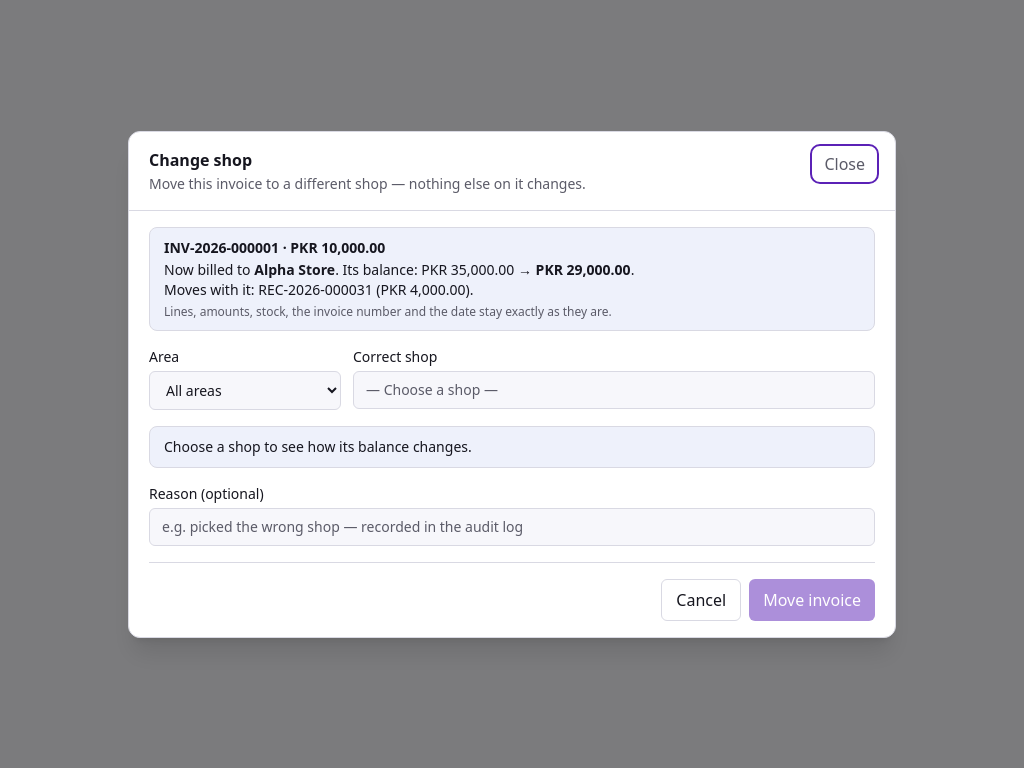
it: Change shop › the receipts that move with the invoice are named, and only the unpaid part changes the balances
The image size is (1024, 768).
Expected: the text with test id "cs-moving" shows "REC-2026-000031 (PKR 4,000.00)", [258,280,470,298]
Step 1. Click the dropdown named "Correct shop" → coordinates (614, 390), box [353,370,875,408]
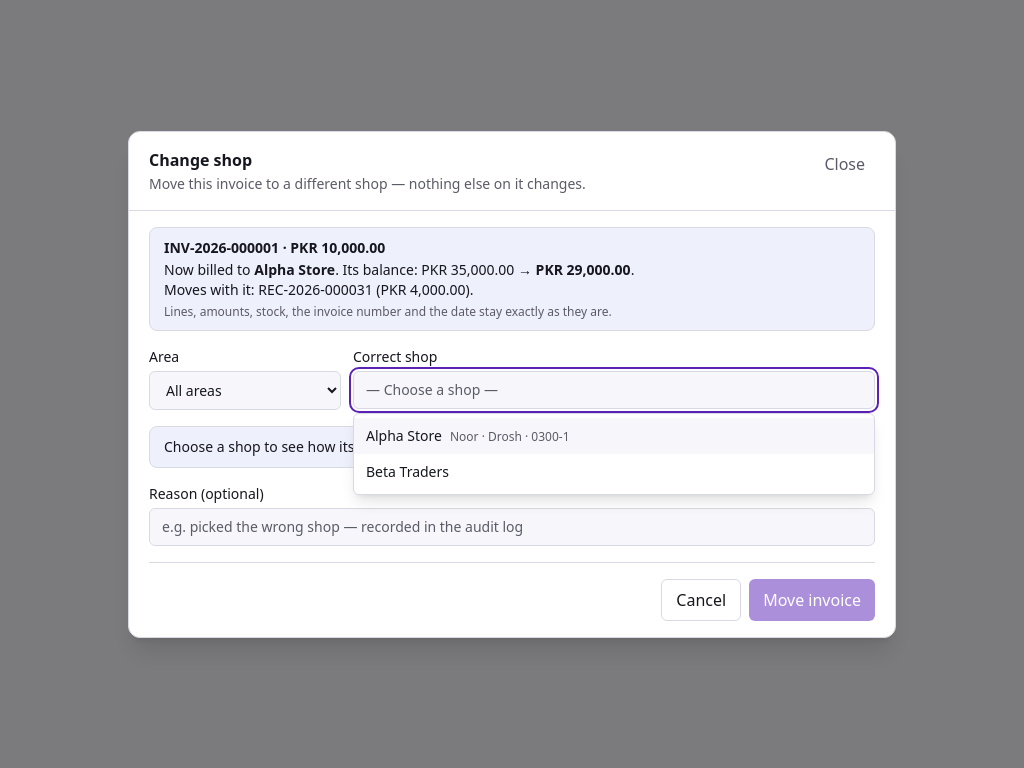
Step 2. Click the option "Beta Traders" → coordinates (408, 471), box [366,462,449,480]
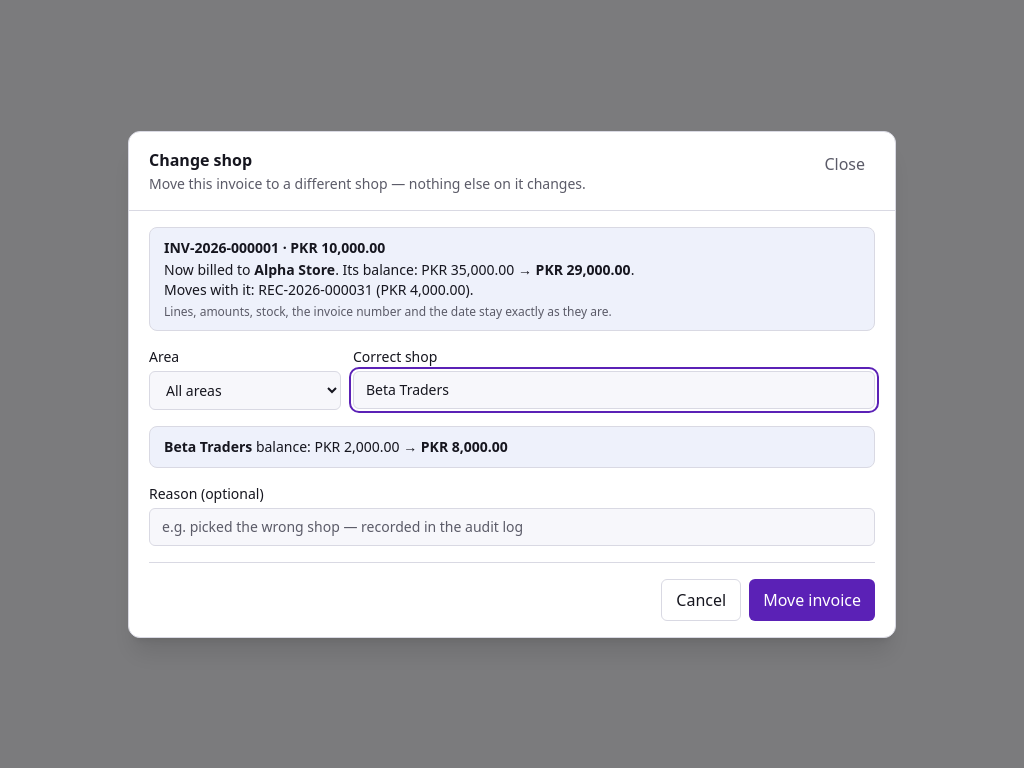
Expected: the text with test id "cs-old-after" reads "PKR 29,000.00", [536,260,631,278]
Expected: the text with test id "cs-new-after" reads "PKR 8,000.00", [421,436,508,456]
